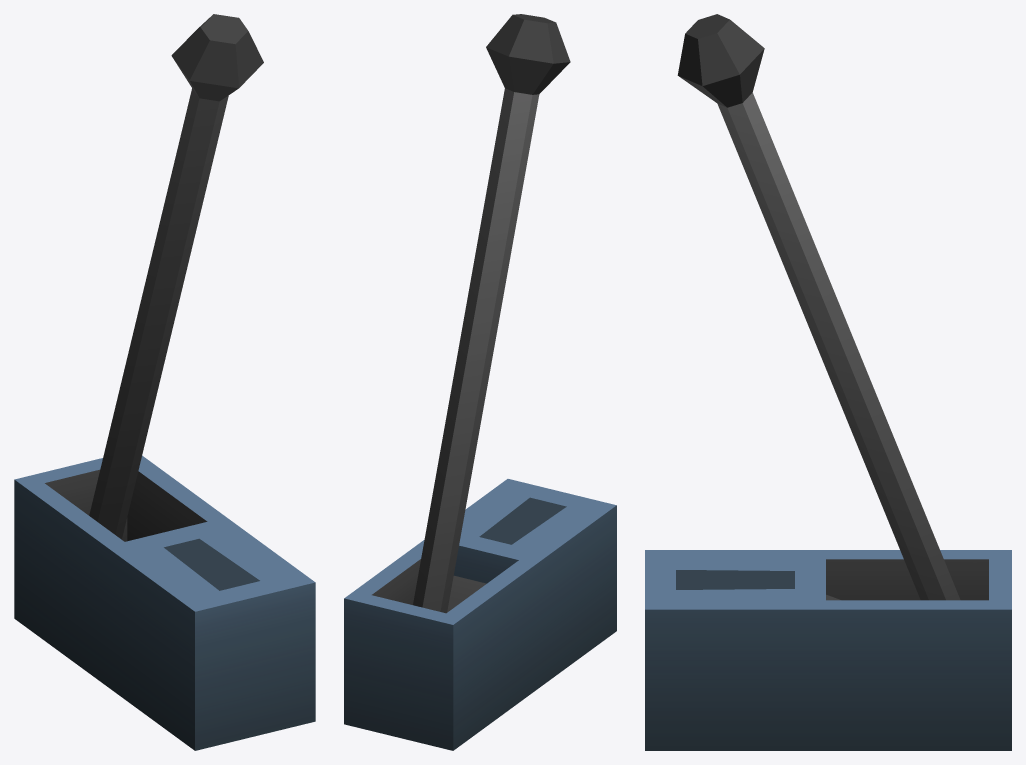
File: OB_Lever.fbx
3 views of the same model, side by side, from view 1: azimuth 30°, elevation 25°; view 2: azimuth 150°, elevation 25°; view 3: azimuth 270°, elevation 25° (orthographic). The views are drawn at different scales.
Parts seen in each view (by area): view 1: OB_Lever; view 2: OB_Lever; view 3: OB_Lever.
Part boxes in pixels (x1,y1,x2,y2): OB_Lever: (14,14,315,750); OB_Lever: (344,14,616,750); OB_Lever: (645,14,1011,750).
Bounding box in the file's own units: 27.36 × 150 × 71.1.
